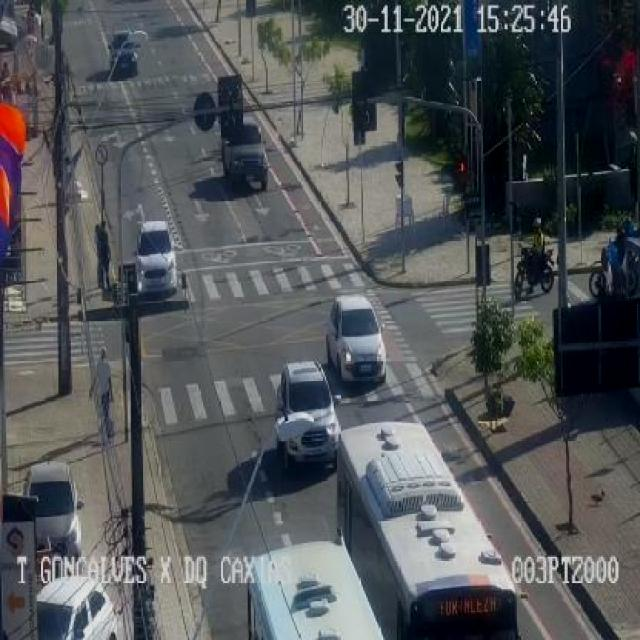Bus: (338, 424, 524, 640)
Car: (279, 364, 342, 468), (327, 294, 387, 390), (222, 120, 274, 194), (132, 218, 178, 293)
